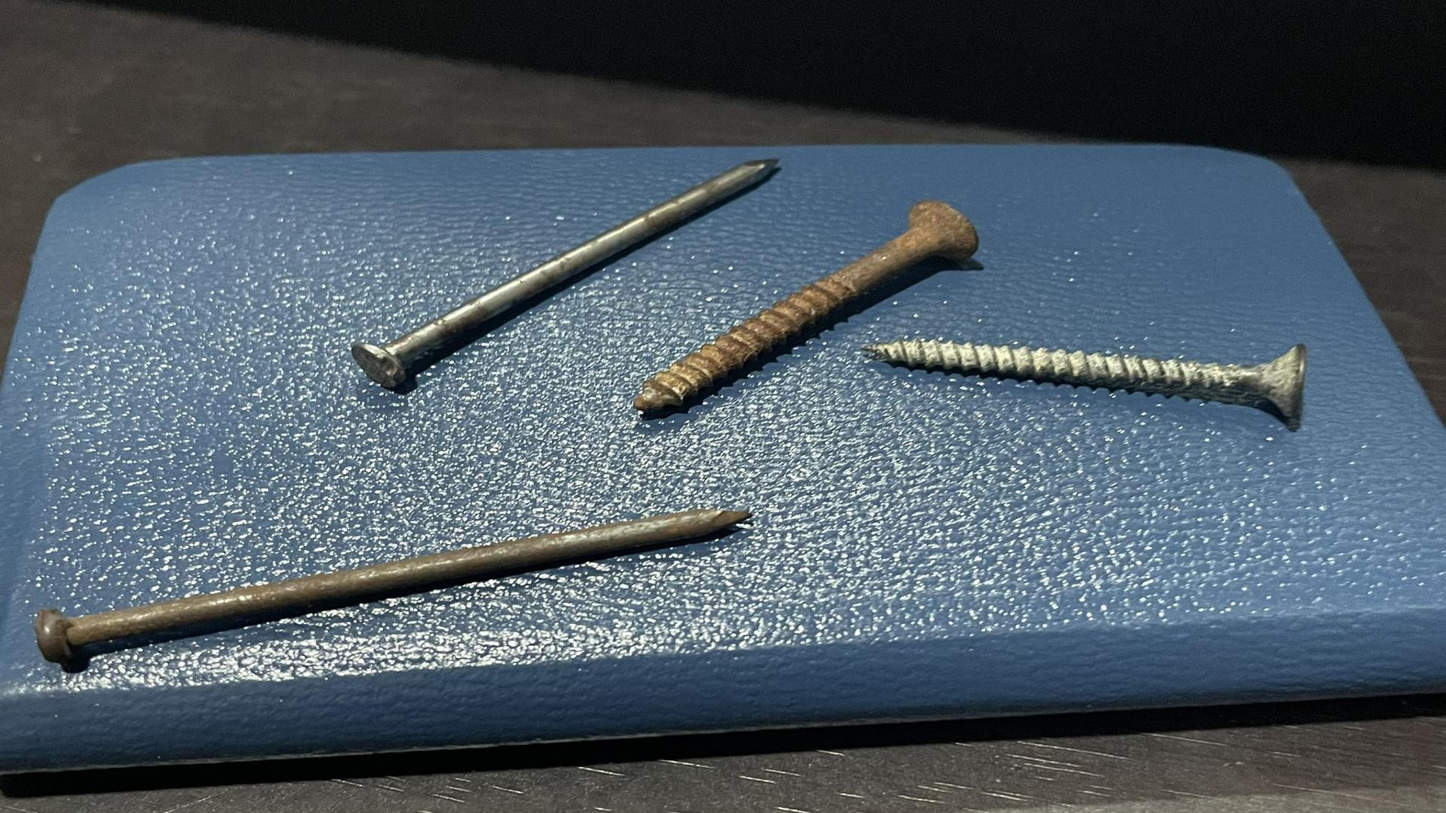nail: (24, 494, 763, 677), (341, 145, 795, 404)
screw: (617, 192, 996, 425), (857, 327, 1327, 441)
